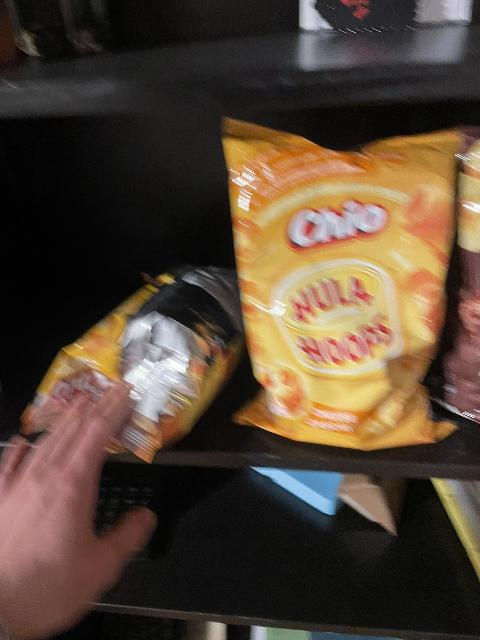Chio Cascaval 125g: (21, 267, 248, 463)
Chio Hula Hoops Cheese 70g: (219, 115, 470, 448)
